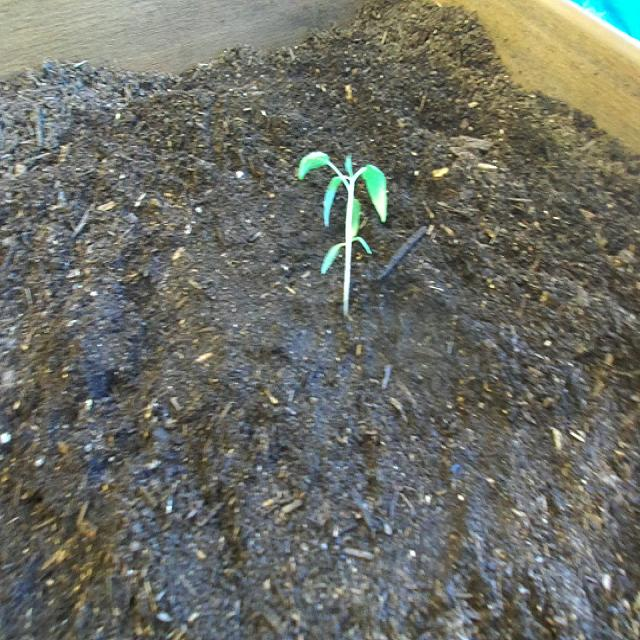Healthy: (287, 122, 391, 325)
